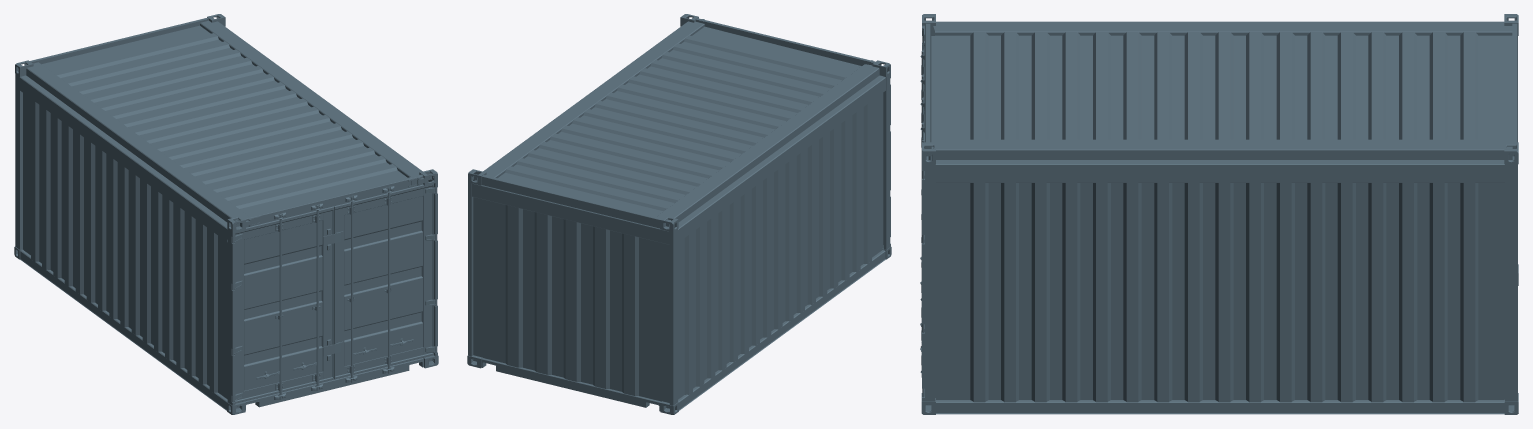
File: container.glb
The picture shows the model from 3 angles, left to right: view 1: azimuth 30°, elevation 25°; view 2: azimuth 150°, elevation 25°; view 3: azimuth 270°, elevation 25°; orthographic projection. The views are drawn at different scales.
Parts seen in each view (by area): view 1: container; view 2: container; view 3: container.
Part boxes in pixels (<box>): container: <box>14,14,438,414</box>; container: <box>467,14,891,414</box>; container: <box>920,14,1518,414</box>.
Size of the model in its own units: 2.7 by 2.4 by 4.95.
